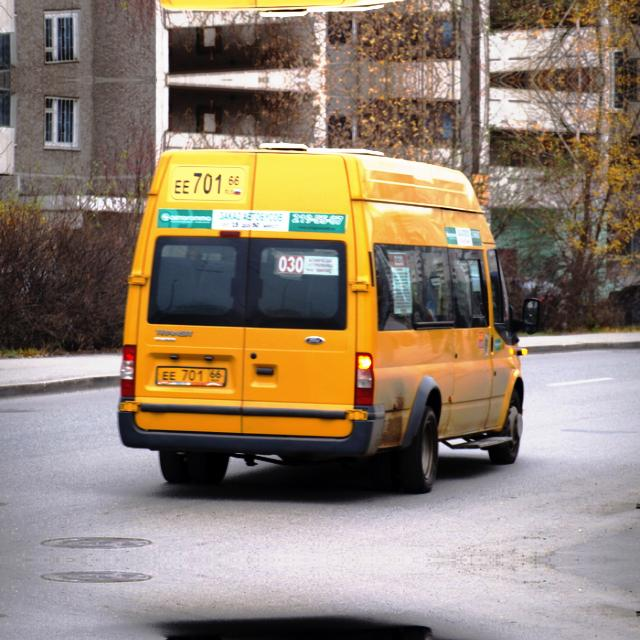taxi: (152, 363, 234, 391)
